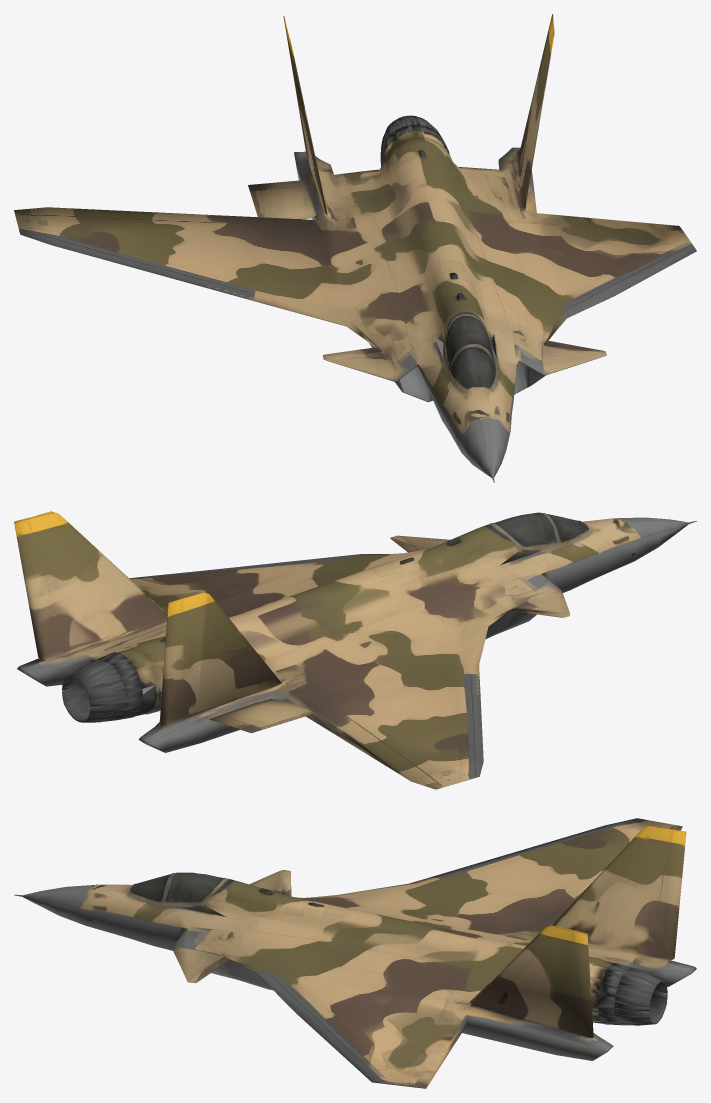
Rendered from enemy.glb.
The picture shows the model from 3 angles, top to bottom: view 1: azimuth 30°, elevation 25°; view 2: azimuth 150°, elevation 25°; view 3: azimuth 270°, elevation 25°; orthographic projection. The views are drawn at different scales.
Visible parts, largest first — view 1: tripo_node_1833f1e9-4cb1-4841-b456-d1d257762ac6; view 2: tripo_node_1833f1e9-4cb1-4841-b456-d1d257762ac6; view 3: tripo_node_1833f1e9-4cb1-4841-b456-d1d257762ac6.
Boxes of the visible parts, left/top/right/bottom form: tripo_node_1833f1e9-4cb1-4841-b456-d1d257762ac6: left=14, top=14, right=696, bottom=482; tripo_node_1833f1e9-4cb1-4841-b456-d1d257762ac6: left=14, top=511, right=696, bottom=789; tripo_node_1833f1e9-4cb1-4841-b456-d1d257762ac6: left=14, top=818, right=696, bottom=1088.
Size of the model in its own units: 0.8062 by 0.2456 by 0.9849.
1 material, 1 textured.
